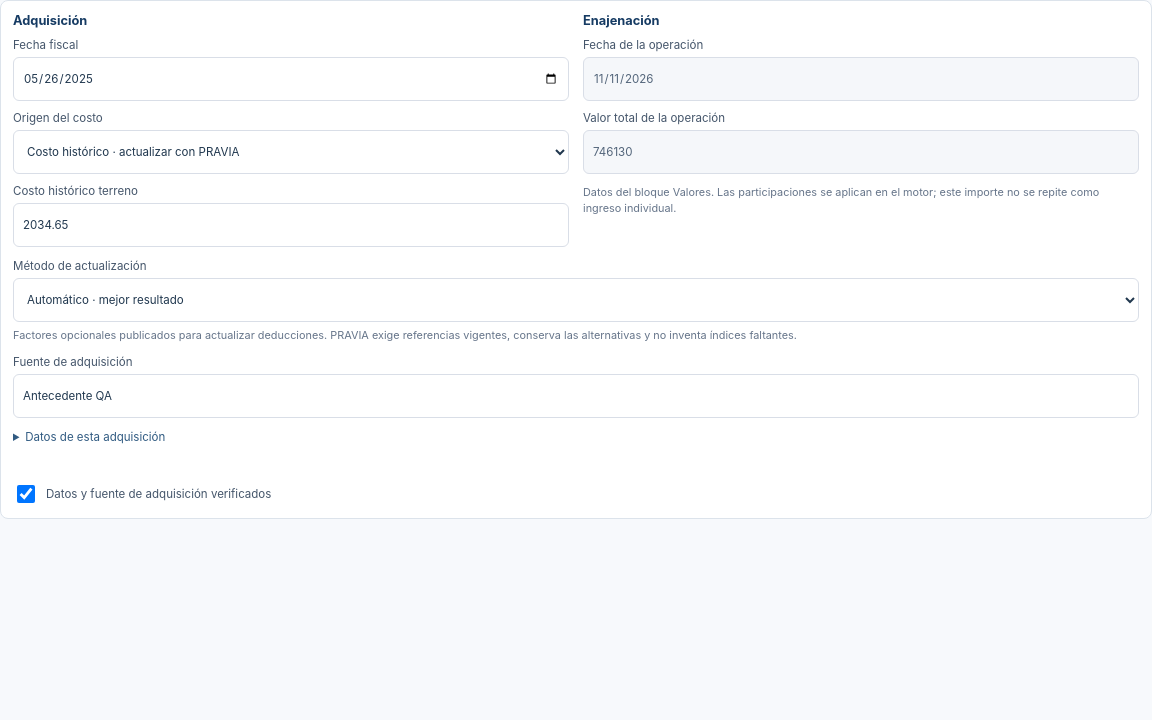
Scenario: ISR · hoja técnica inmutable y adquisición progresiva › sólo terreno oculta construcción y separación; adquisición/enajenación están juntas
This screenshot has width=1152, height=720.
Expected: the heading "Adquisición" is shown, [13,13,87,28]
Expected: the heading "Enajenación" is shown, [583,13,660,28]
Select "Tabla de factores RMF · Anexo 9" in the dropdown labelled "Método de actualización" at [576, 300], box [13,278,1139,322]
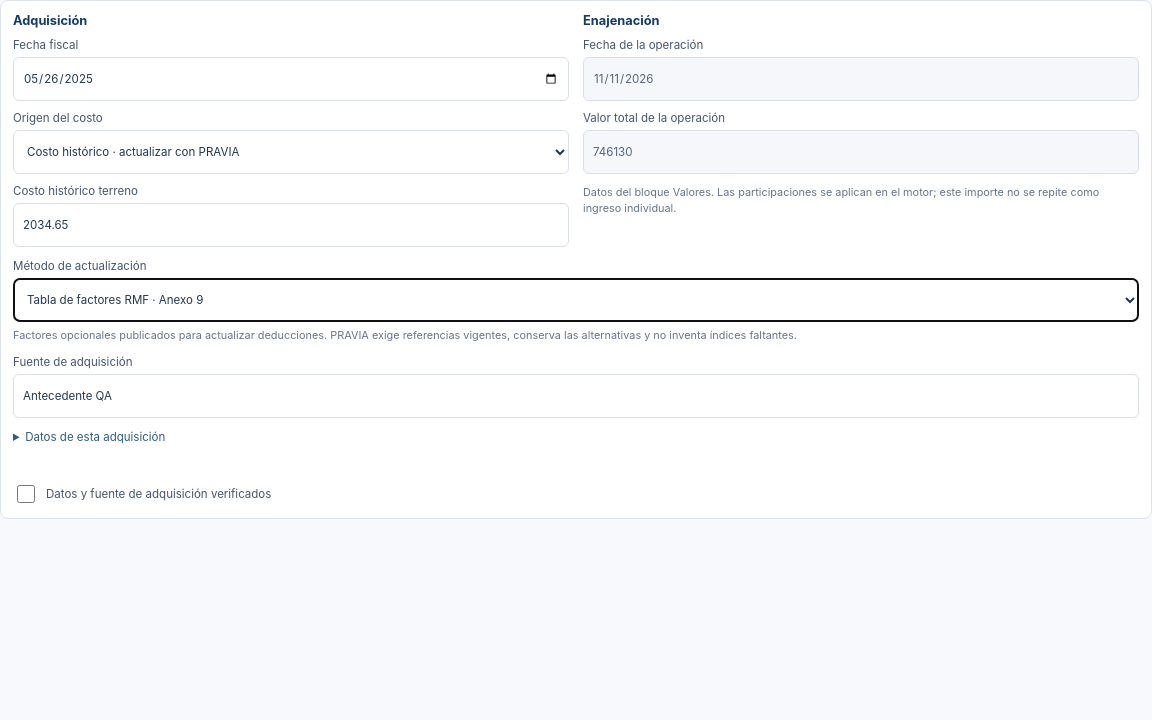
Expected: the checkbox labelled "Datos y fuente de adquisición verificados" is not checked, [17,485,35,503]
